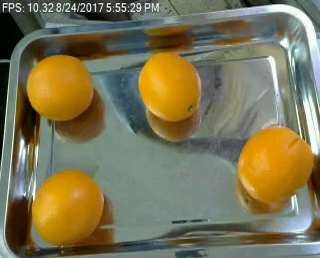Orange: (236, 124, 315, 203), (31, 168, 104, 247), (25, 53, 93, 121), (138, 51, 202, 121)
